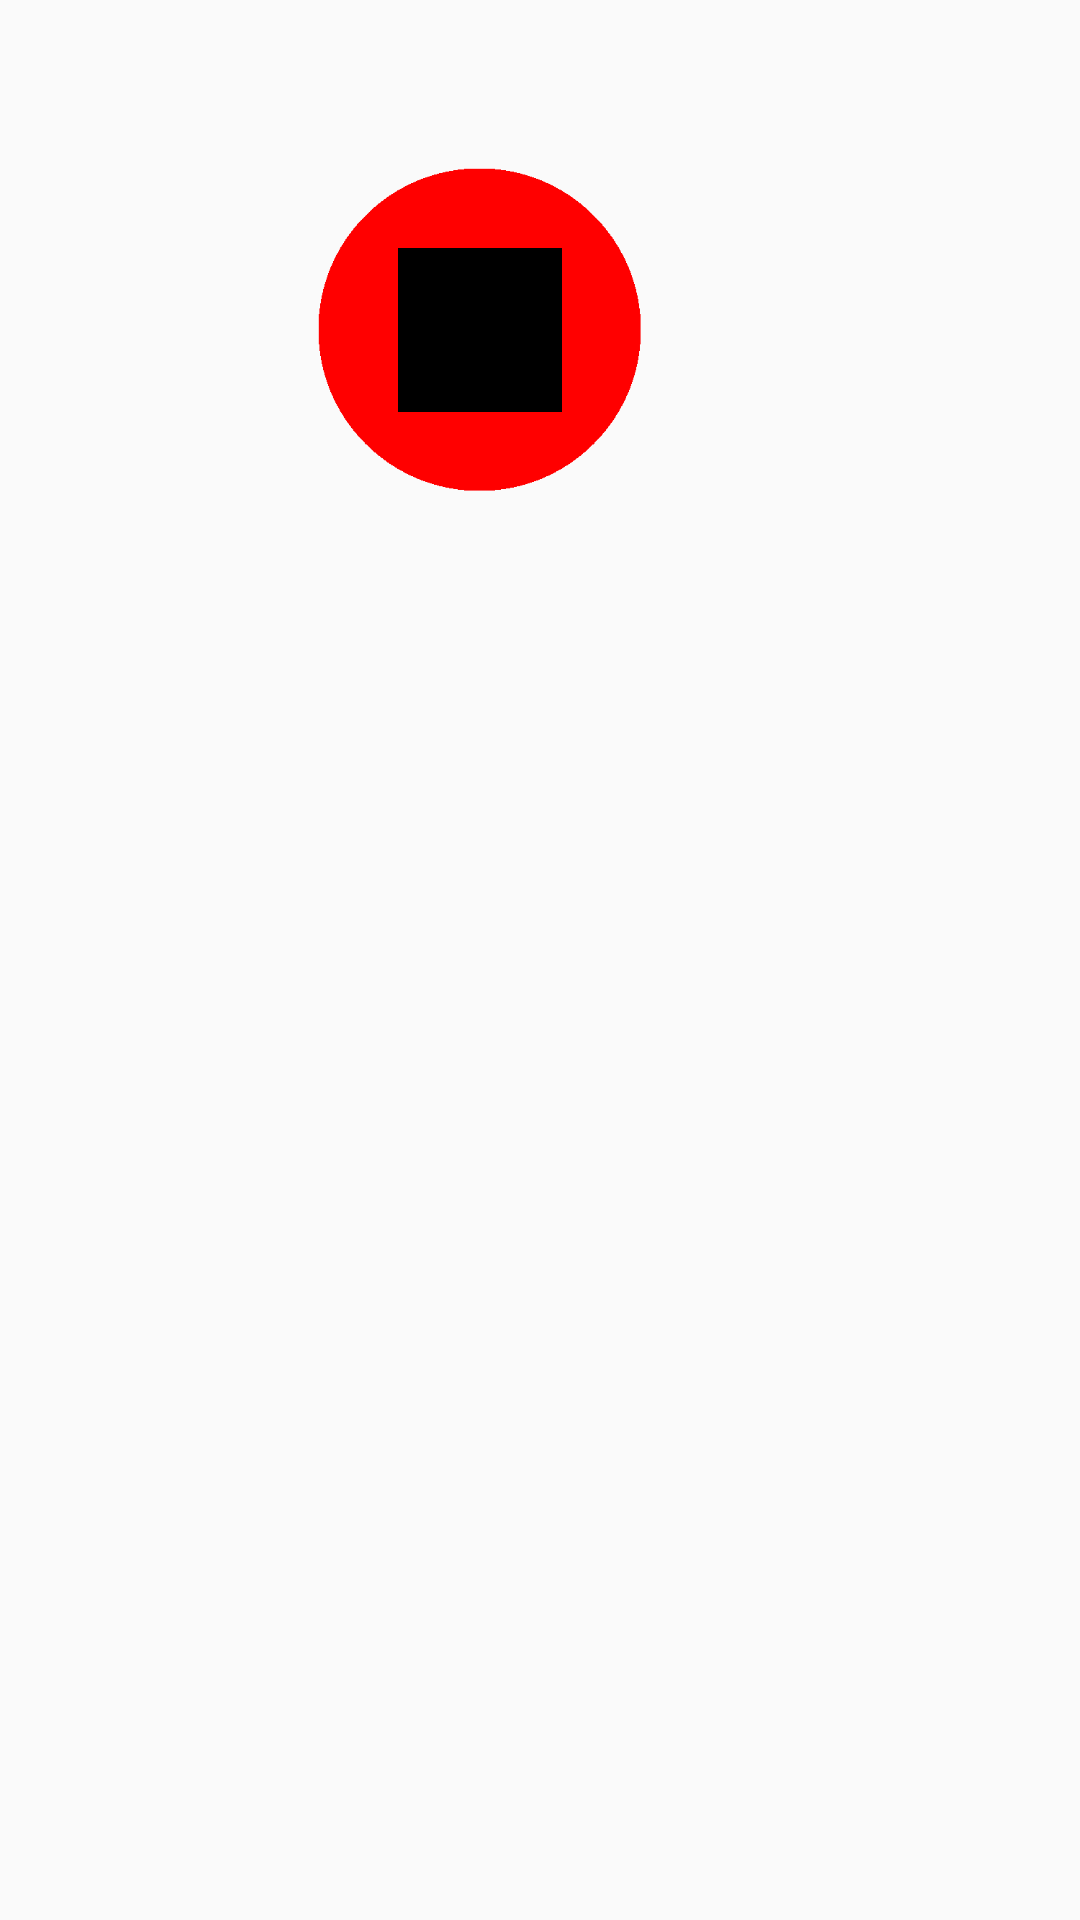

Icon bounding boxes for this 1080x1920 phone screenshot, format (x1, y1, x2, y2):
stop repetitive: (318, 168, 641, 491)
